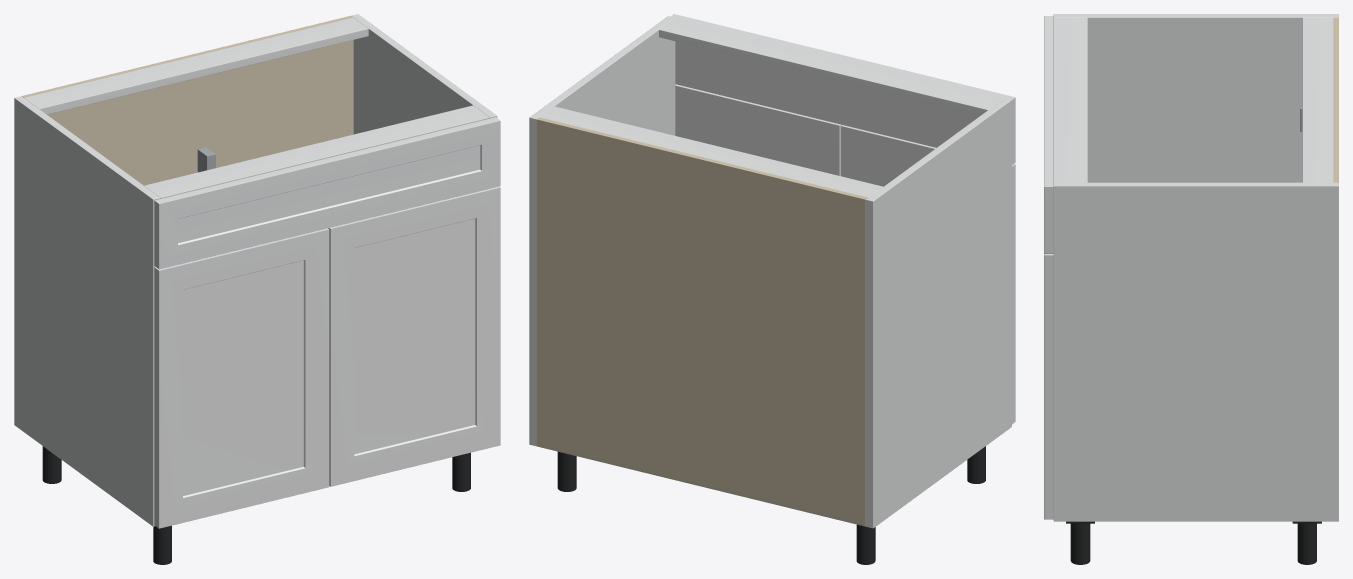
The model's file is PLY-WSS-SB33.glb.
The picture shows the model from 3 angles, left to right: view 1: azimuth 30°, elevation 25°; view 2: azimuth 150°, elevation 25°; view 3: azimuth 270°, elevation 25°; orthographic projection. The views are drawn at different scales.
Visible parts, largest first — view 1: Carcass left, Shaker door, Shaker door.001, Carcass back, False drawer front, Carcass right, Top support rail, Top support rail.001, Adjustable foot.001, Adjustable foot.003, Adjustable foot; view 2: Carcass back, Carcass left, False drawer front, Carcass right, Shaker door.001, Top support rail.001, Top support rail, Shaker door, Carcass bottom, Adjustable foot, Adjustable foot.002; view 3: Carcass right, Carcass left, Top support rail.001, Top support rail, Shaker door.001, False drawer front, Carcass back, Adjustable foot.003, Adjustable foot.002.
Boxes of the visible parts, <box> form: Carcass left: <box>14,96,160,526</box>; Shaker door: <box>154,228,329,528</box>; Shaker door.001: <box>328,186,500,486</box>; Carcass back: <box>22,16,353,185</box>; False drawer front: <box>154,117,500,269</box>; Carcass right: <box>351,14,497,134</box>; Top support rail: <box>24,17,368,114</box>; Top support rail.001: <box>144,105,489,198</box>; Adjustable foot.001: <box>153,525,171,564</box>; Adjustable foot.003: <box>452,452,470,491</box>; Adjustable foot: <box>42,446,61,483</box>; Carcass back: <box>536,117,867,526</box>; Carcass left: <box>866,98,1011,528</box>; False drawer front: <box>671,14,1015,164</box>; Carcass right: <box>529,16,675,446</box>; Shaker door.001: <box>675,84,841,176</box>; Top support rail.001: <box>659,17,1004,115</box>; Top support rail: <box>540,106,882,197</box>; Shaker door: <box>841,125,1015,424</box>; Carcass bottom: <box>537,443,865,526</box>; Adjustable foot: <box>856,524,875,564</box>; Adjustable foot.002: <box>557,451,576,491</box>; Carcass right: <box>1053,182,1338,521</box>; Carcass left: <box>1053,14,1338,182</box>; Top support rail.001: <box>1053,17,1087,182</box>; Top support rail: <box>1302,17,1333,182</box>; Shaker door.001: <box>1044,254,1053,519</box>; False drawer front: <box>1044,16,1053,253</box>; Carcass back: <box>1333,17,1338,182</box>; Adjustable foot.003: <box>1070,523,1090,564</box>; Adjustable foot.002: <box>1297,523,1316,564</box>.
Bounding box in the file's own units: 0.8382 × 0.8763 × 0.6064.
